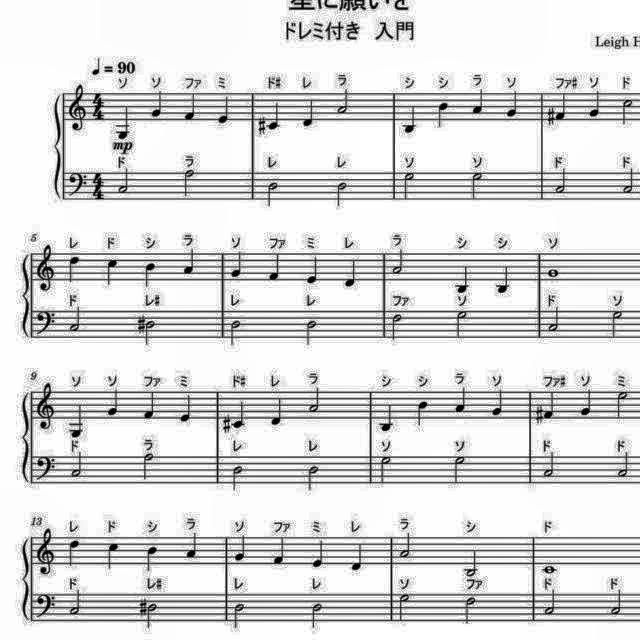Bass-clef: (34, 305, 58, 341), (35, 590, 59, 622), (34, 452, 58, 483), (67, 168, 89, 198)
Diez: (134, 312, 148, 336), (544, 104, 556, 126), (256, 116, 268, 136), (534, 403, 544, 425), (138, 596, 148, 618), (221, 414, 231, 434)
Full-note: (542, 560, 558, 576), (546, 266, 562, 280)
Half-note: (614, 388, 634, 420), (540, 588, 560, 618), (304, 386, 324, 416), (618, 165, 638, 195), (308, 602, 329, 630), (453, 308, 469, 344), (230, 464, 248, 496), (228, 316, 245, 348), (396, 592, 412, 626), (620, 96, 636, 130), (546, 304, 564, 334), (141, 451, 159, 481), (607, 589, 625, 619), (462, 549, 480, 579), (305, 463, 323, 492), (182, 166, 198, 198), (388, 312, 404, 344), (378, 454, 394, 486), (452, 452, 468, 484), (144, 600, 160, 632), (464, 594, 480, 626), (335, 88, 353, 116), (67, 306, 85, 334), (68, 589, 86, 617), (266, 180, 282, 210), (334, 179, 350, 209), (303, 318, 319, 348), (610, 310, 626, 340), (68, 449, 84, 479), (616, 449, 632, 479), (397, 529, 413, 559), (554, 167, 570, 196), (390, 247, 406, 276), (116, 168, 132, 196), (470, 170, 484, 202), (232, 602, 248, 630), (402, 171, 416, 201), (542, 451, 556, 479), (144, 318, 156, 346)
Quarter-note: (65, 402, 87, 438), (114, 104, 134, 140), (399, 104, 419, 136), (376, 402, 396, 434), (64, 538, 84, 570), (147, 90, 169, 118), (434, 98, 452, 132), (342, 257, 360, 291), (105, 538, 124, 570), (142, 543, 162, 573), (578, 388, 598, 417), (181, 90, 199, 122), (266, 102, 284, 134), (183, 246, 201, 278), (455, 264, 473, 296), (271, 534, 289, 566), (105, 386, 124, 416), (216, 93, 232, 127), (302, 97, 318, 131), (469, 86, 486, 118), (554, 91, 570, 125), (306, 253, 322, 287), (142, 390, 158, 424), (65, 255, 83, 285), (494, 264, 512, 294), (268, 396, 284, 429), (414, 398, 431, 429), (504, 88, 520, 120), (586, 88, 602, 120), (106, 256, 122, 288), (268, 250, 284, 282), (231, 399, 247, 431), (178, 393, 195, 423), (489, 388, 506, 418), (454, 386, 470, 416), (232, 533, 248, 563), (350, 542, 366, 572), (312, 536, 326, 570), (230, 249, 244, 281), (543, 388, 557, 420), (144, 261, 160, 287), (185, 532, 199, 558)
Treble-clef: (64, 78, 92, 136), (34, 524, 58, 580), (34, 382, 58, 434), (36, 241, 56, 293)
